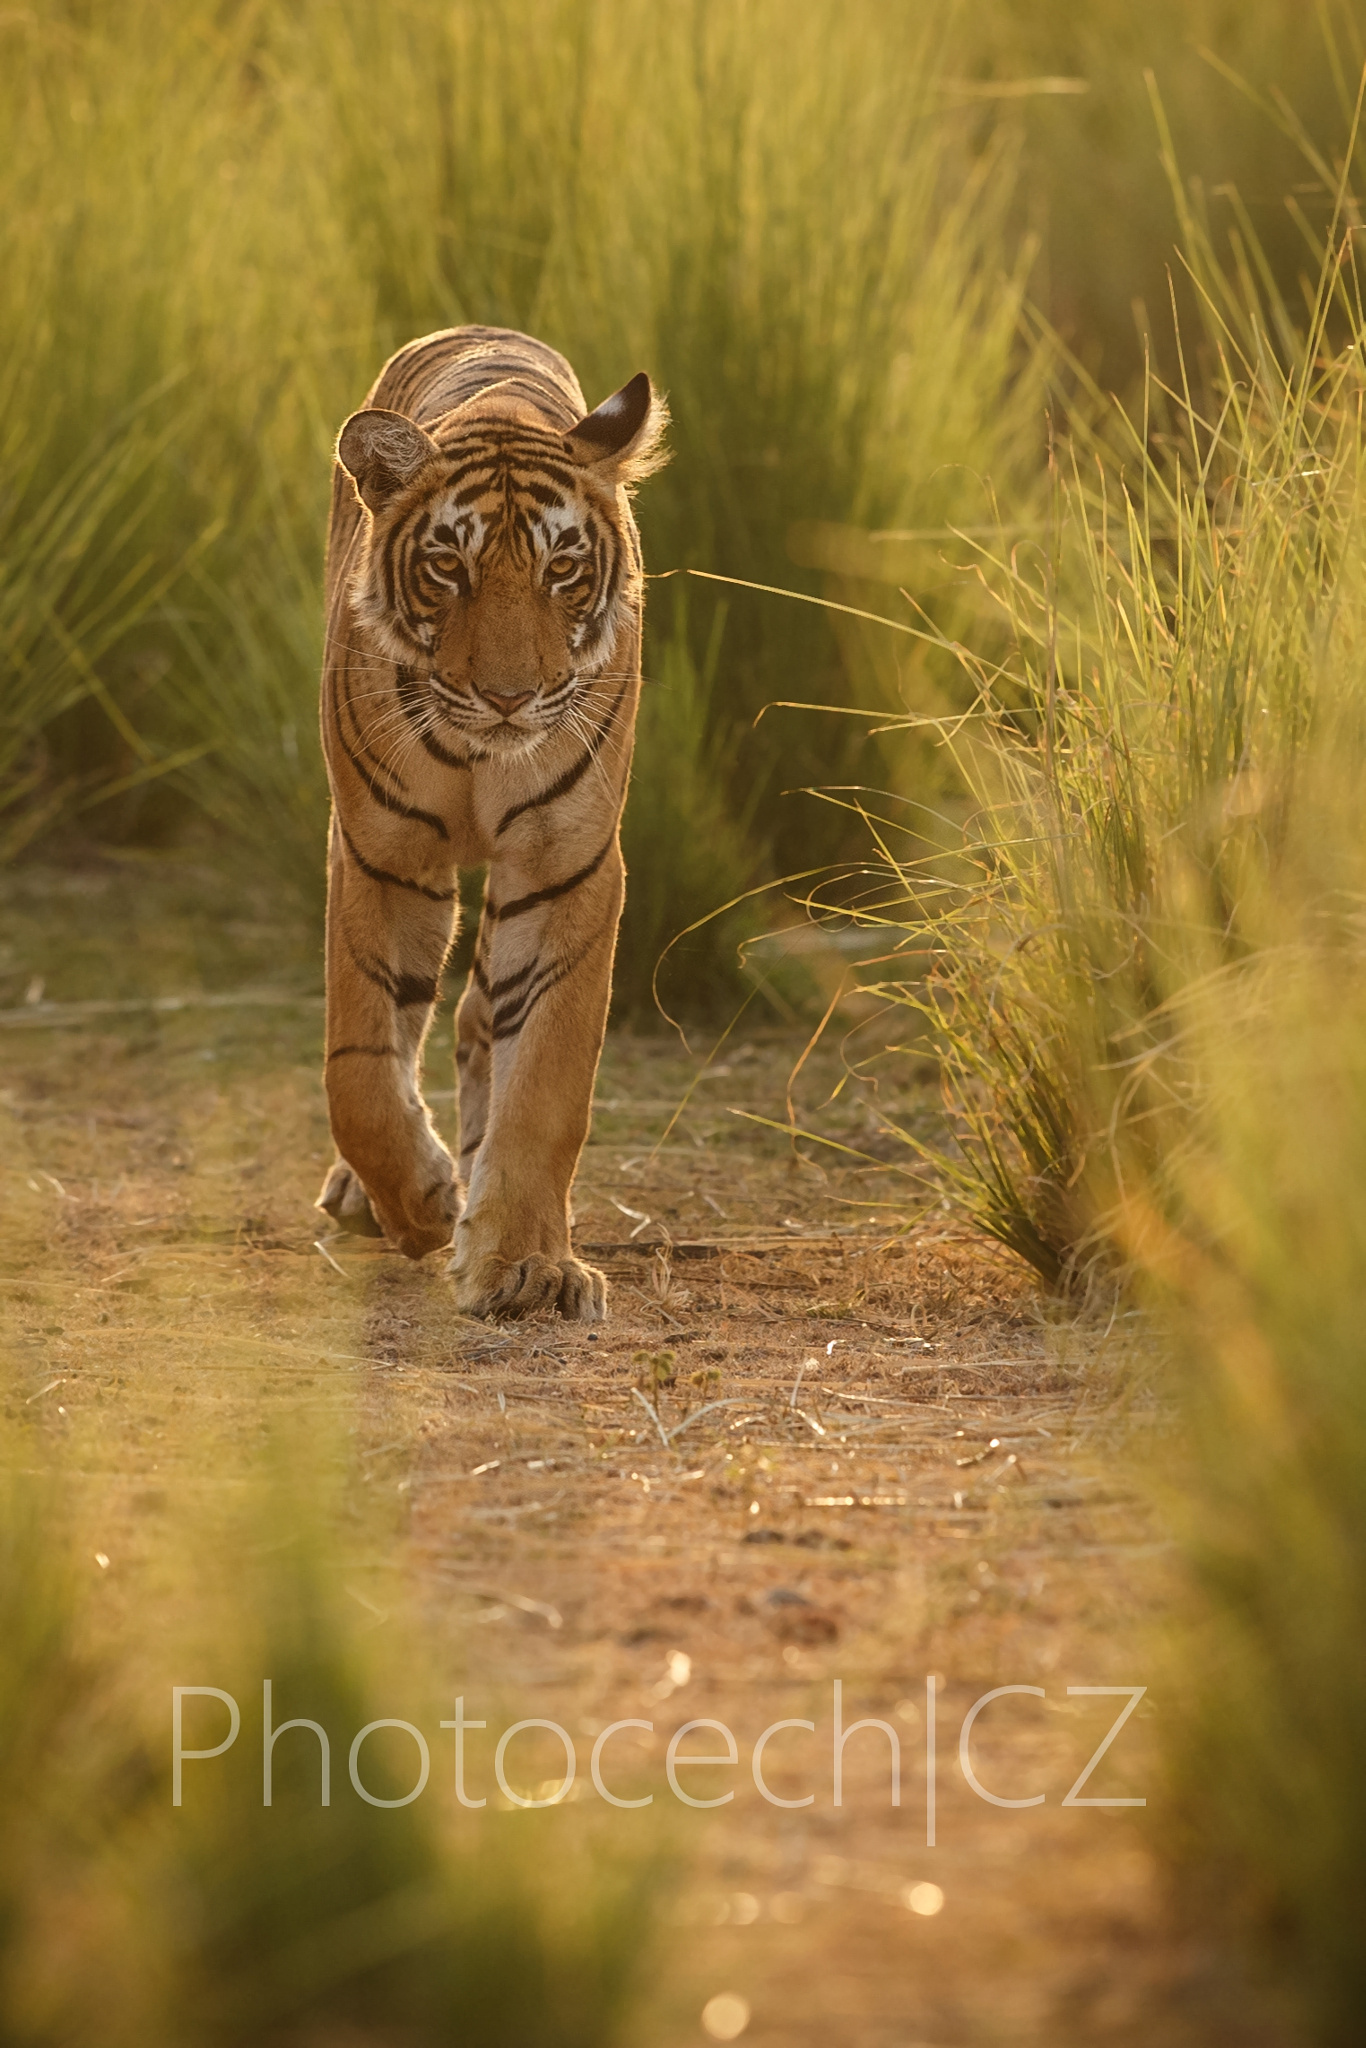tiger: (294, 315, 694, 1396)
